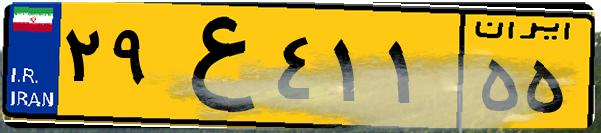1: (385, 28, 445, 110), (330, 28, 385, 110)
2: (57, 26, 110, 100)
4: (270, 28, 330, 110)
5: (475, 38, 525, 113), (525, 38, 570, 115)
9: (110, 28, 158, 98)
ع: (158, 12, 270, 120)
